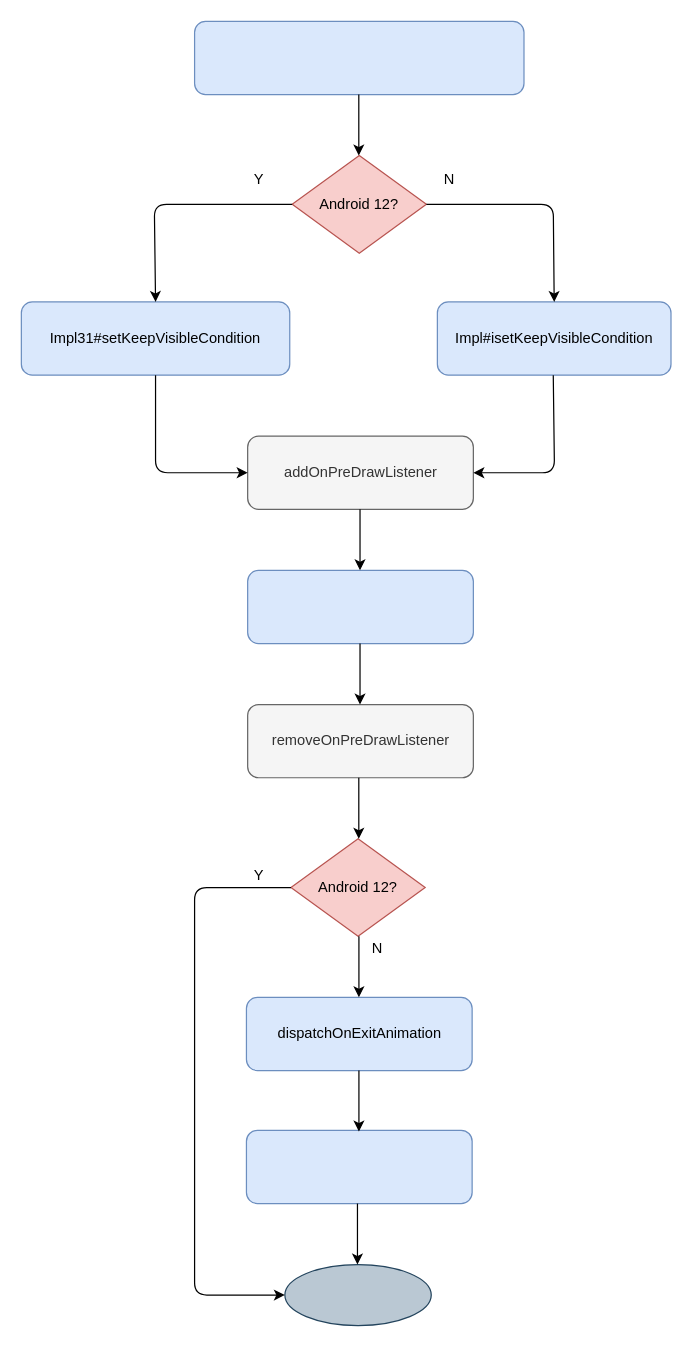
Some shapes in this 693 by 1347 pixel diagram are drawn without their labels. The shapes that lost their labels are listed below. From the top down, each one's box as (x1, y1, x2, y2) in pixels, then its label:
(193, 20, 524, 95): Activity# setKeepVisibleCondition
(246, 569, 473, 644): KeepOnScreenCondition #shouldKeepOnScreen
(245, 1129, 472, 1204): OnExitAnimationListener #onSplashScreenExit
(284, 1263, 431, 1326): End
